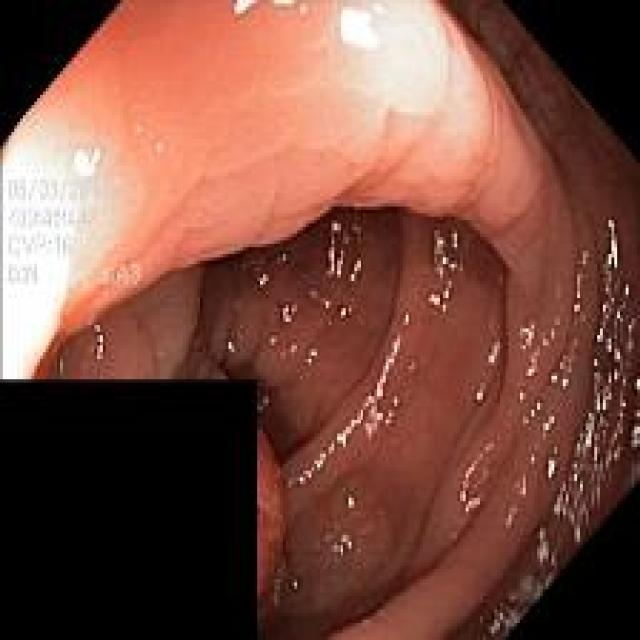Polyps: (259, 430, 285, 621)
